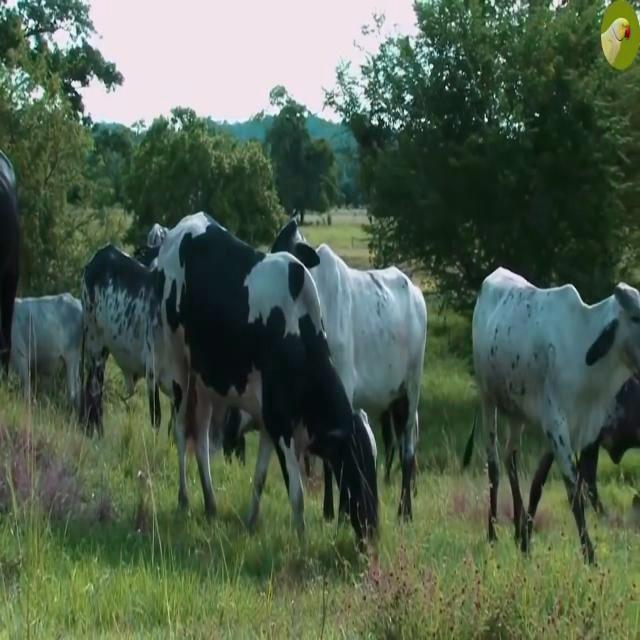cow: (154, 212, 378, 541), (472, 268, 640, 562), (272, 219, 426, 519)
